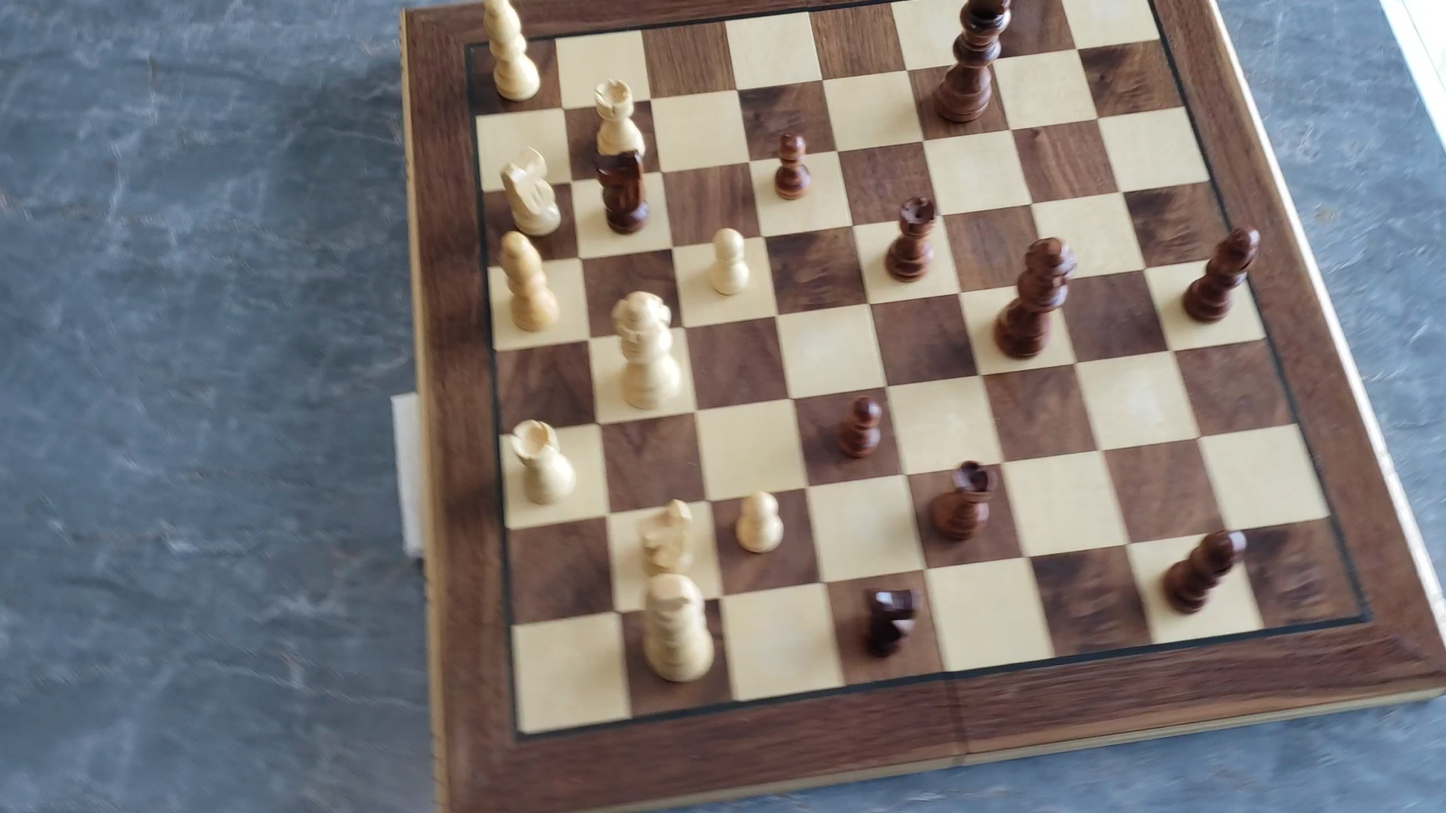black-bishop: (1177, 218, 1274, 329), (1161, 516, 1251, 623)
black-king: (934, 0, 1020, 133)
black-knight: (593, 146, 651, 236), (858, 585, 922, 659)
black-pawn: (833, 393, 887, 462), (770, 128, 813, 203)
black-queen: (991, 223, 1081, 366)
black-rook: (929, 458, 996, 544), (884, 193, 941, 284)
white-bishop: (461, 1, 558, 99), (492, 228, 565, 336)
white-king: (634, 570, 720, 687)
white-knight: (633, 490, 713, 580), (497, 141, 565, 242)
white-pawn: (701, 222, 756, 301), (730, 487, 790, 557)
white-queen: (598, 277, 693, 415)
white-rook: (503, 416, 582, 509), (589, 75, 647, 165)
